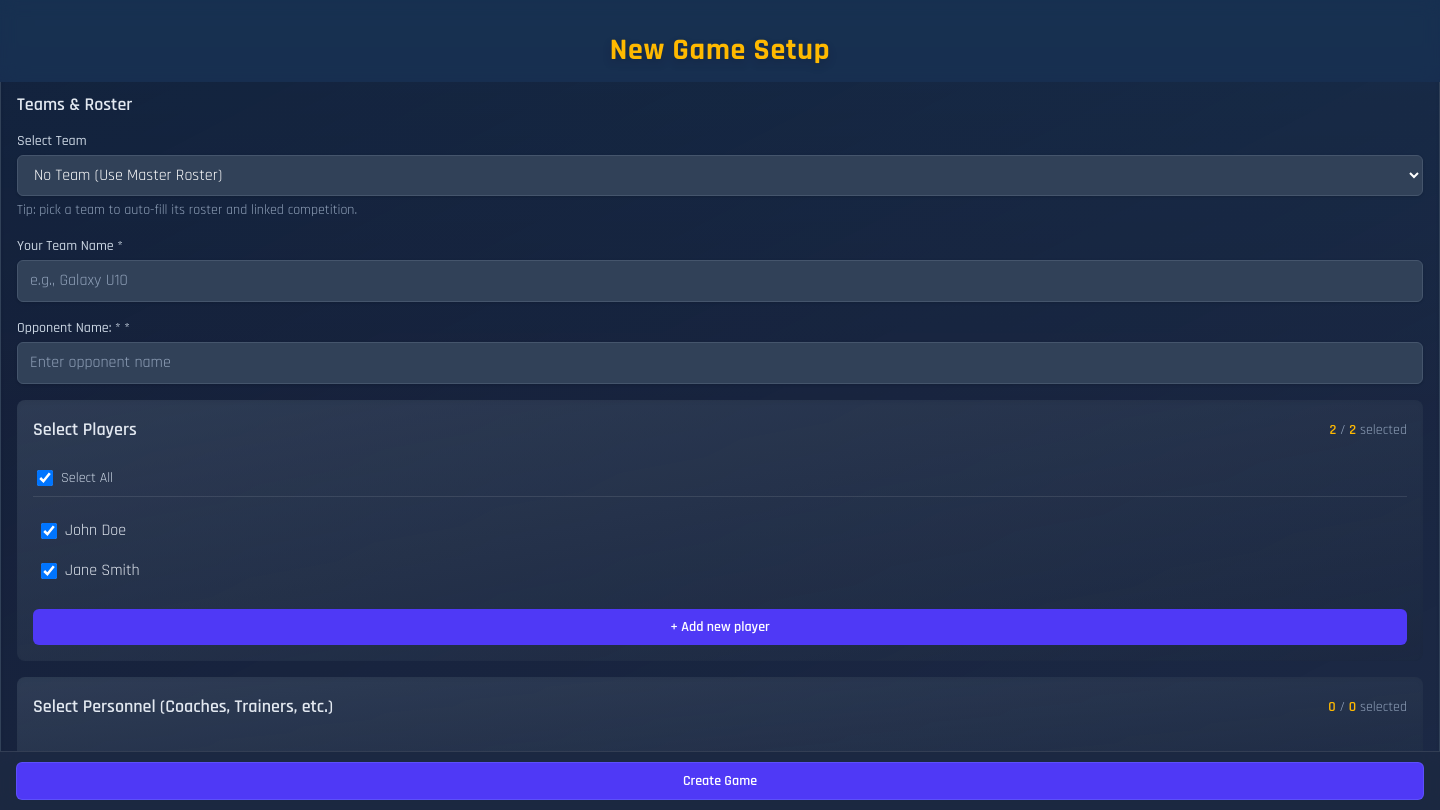
Test case: NewGameSetupModal › R1: inline add appends the saved player to the picker snapshot AND selects them
Click the button "+ Add new player" at (720, 626), box top-left (33, 608), bottom-right (1407, 644)
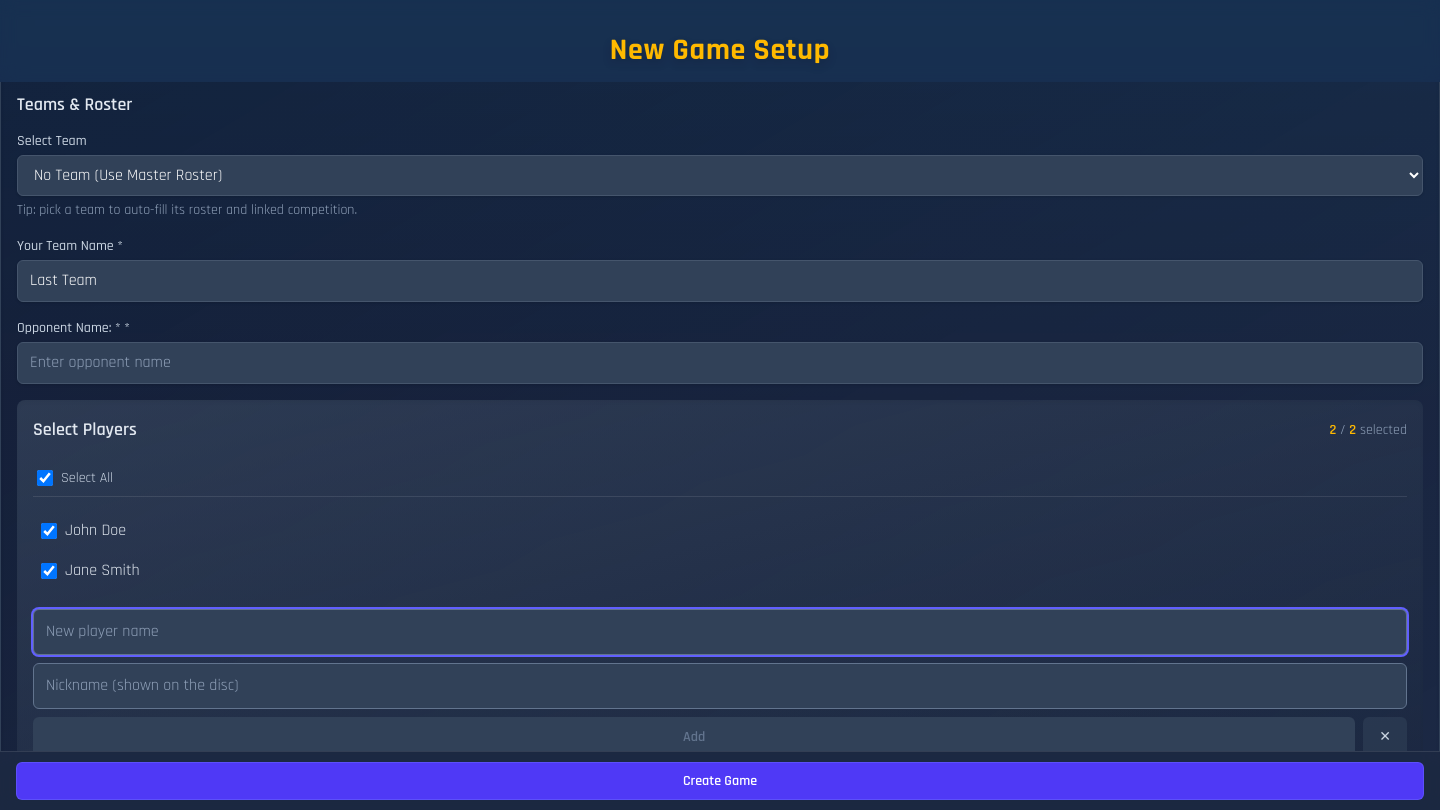
Type "Uusi" into the field with placeholder "New player name" at (720, 632), box top-left (33, 608), bottom-right (1407, 654)
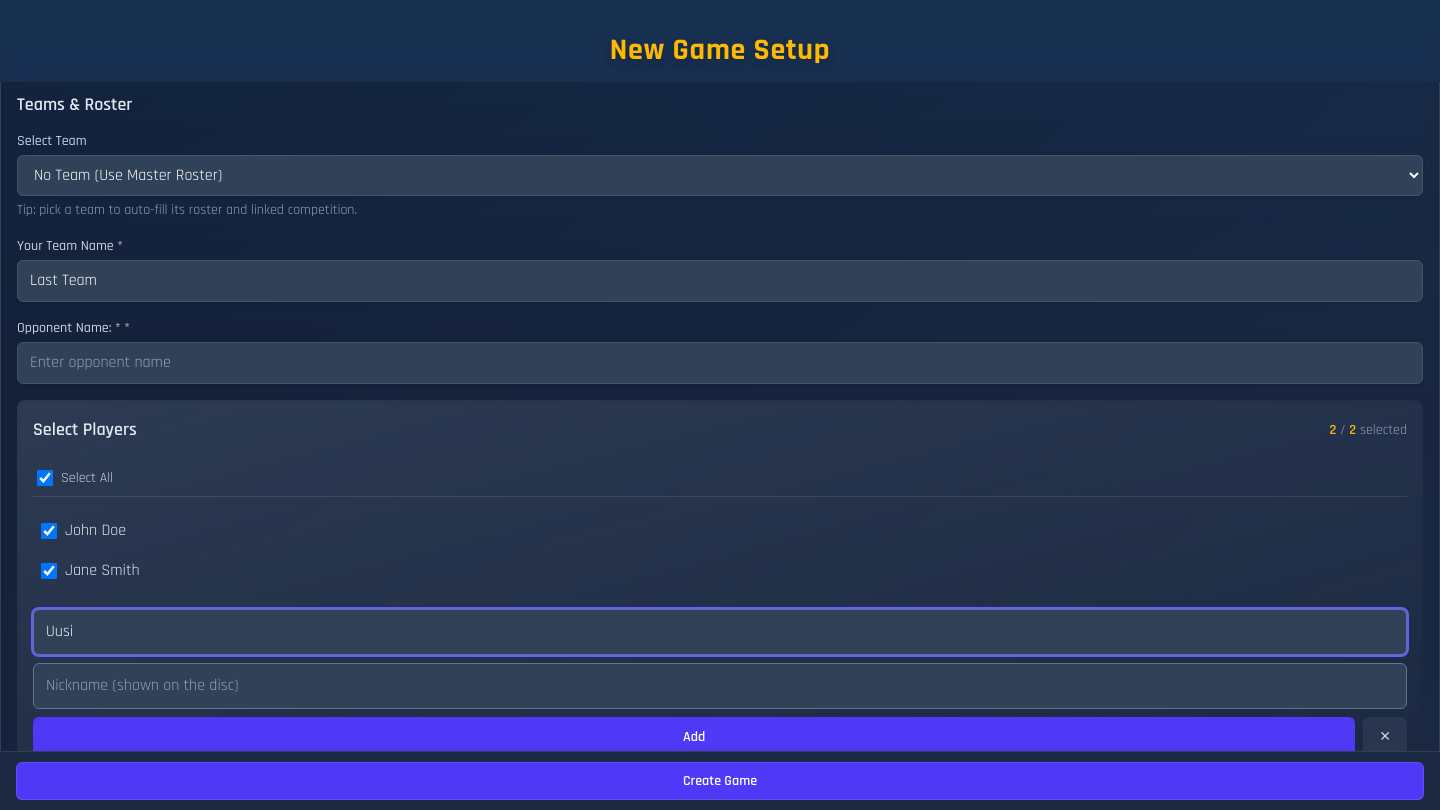
Click the button "Add" at (694, 736), box top-left (33, 716), bottom-right (1355, 756)
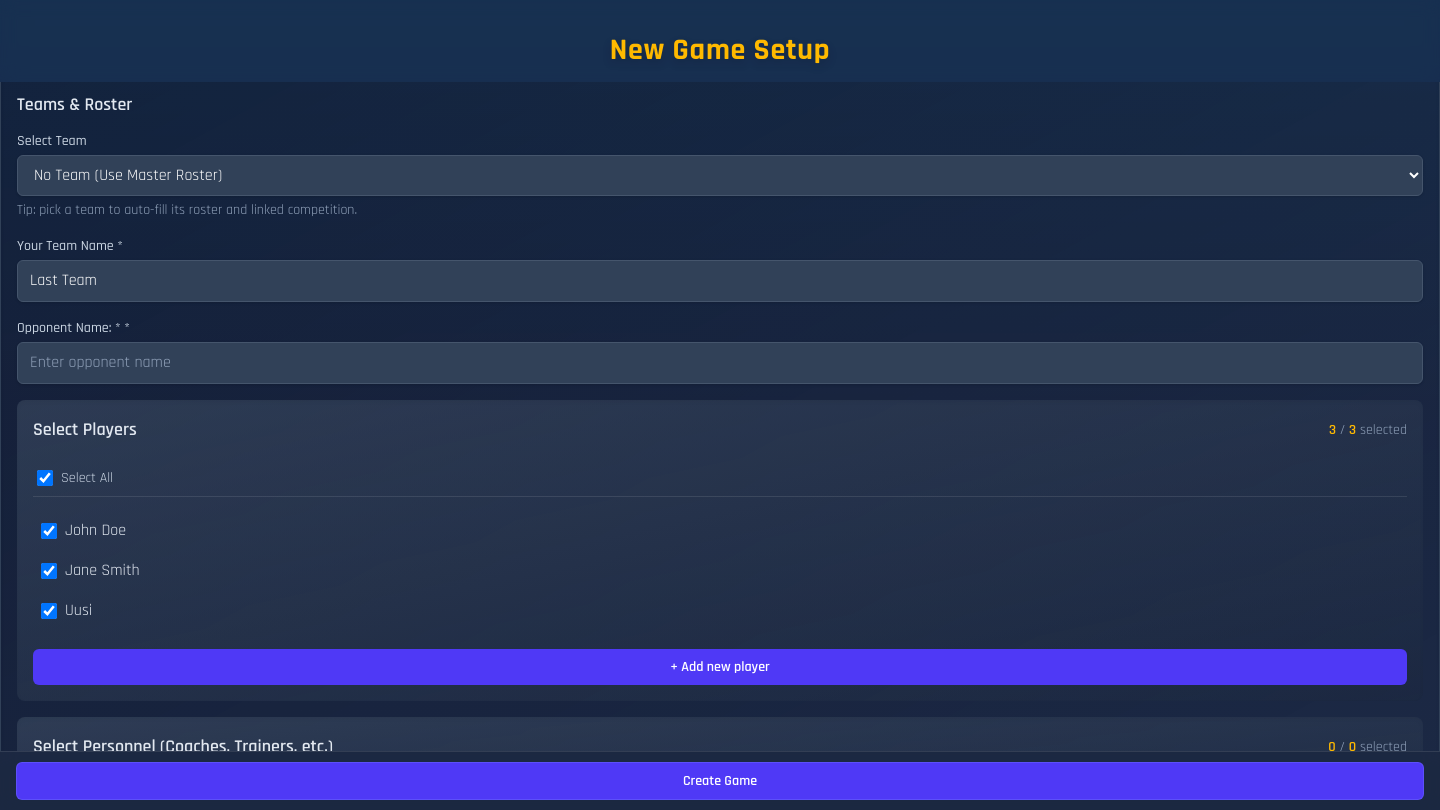
Expected: the text "Uusi" is shown, top-left (65, 598), bottom-right (92, 622)
Expected: the checkbox labelled "Uusi" is checked, top-left (41, 602), bottom-right (57, 618)
